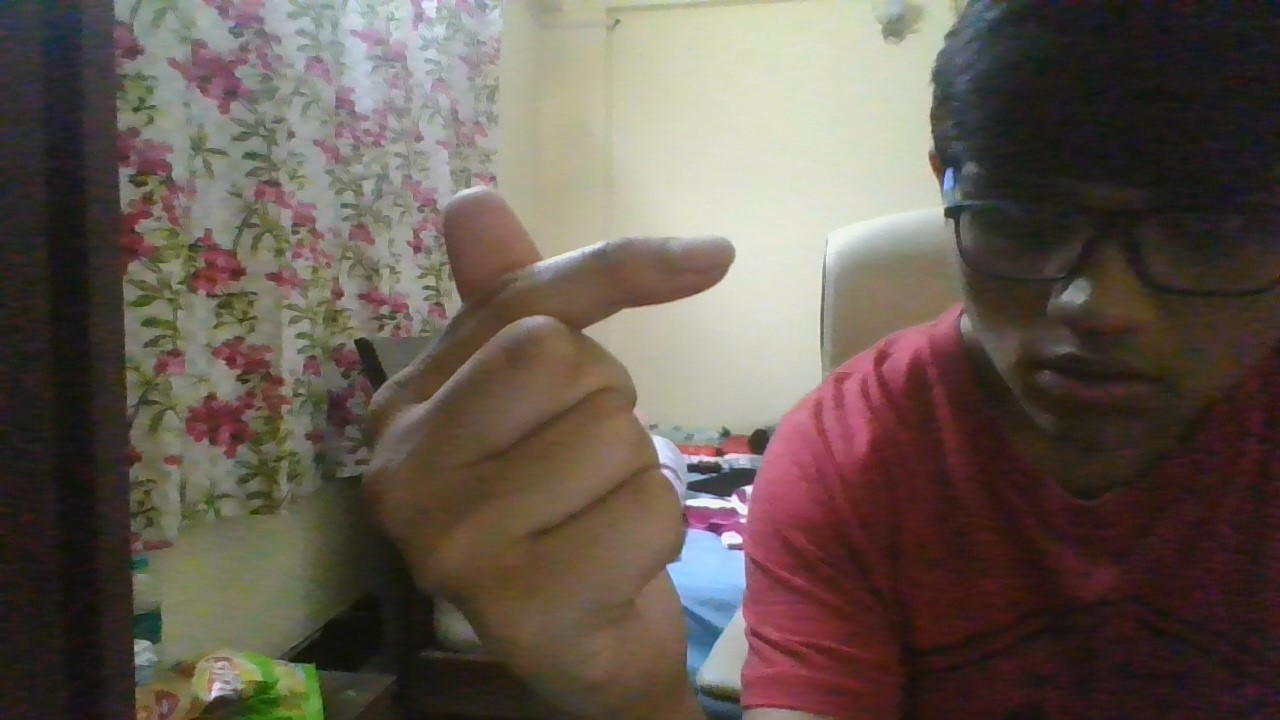eof: (356, 184, 737, 718)
